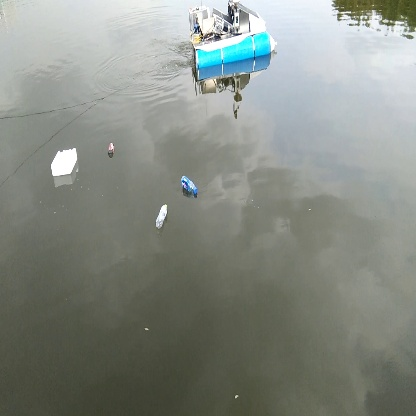bottle: (179, 173, 200, 197), (155, 202, 171, 229)
plastic-garbage: (49, 147, 83, 178)
